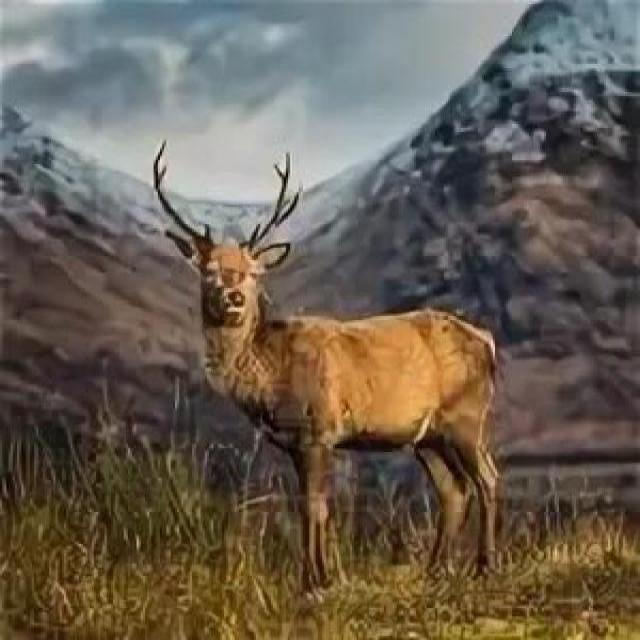deer: (86, 141, 592, 586)
